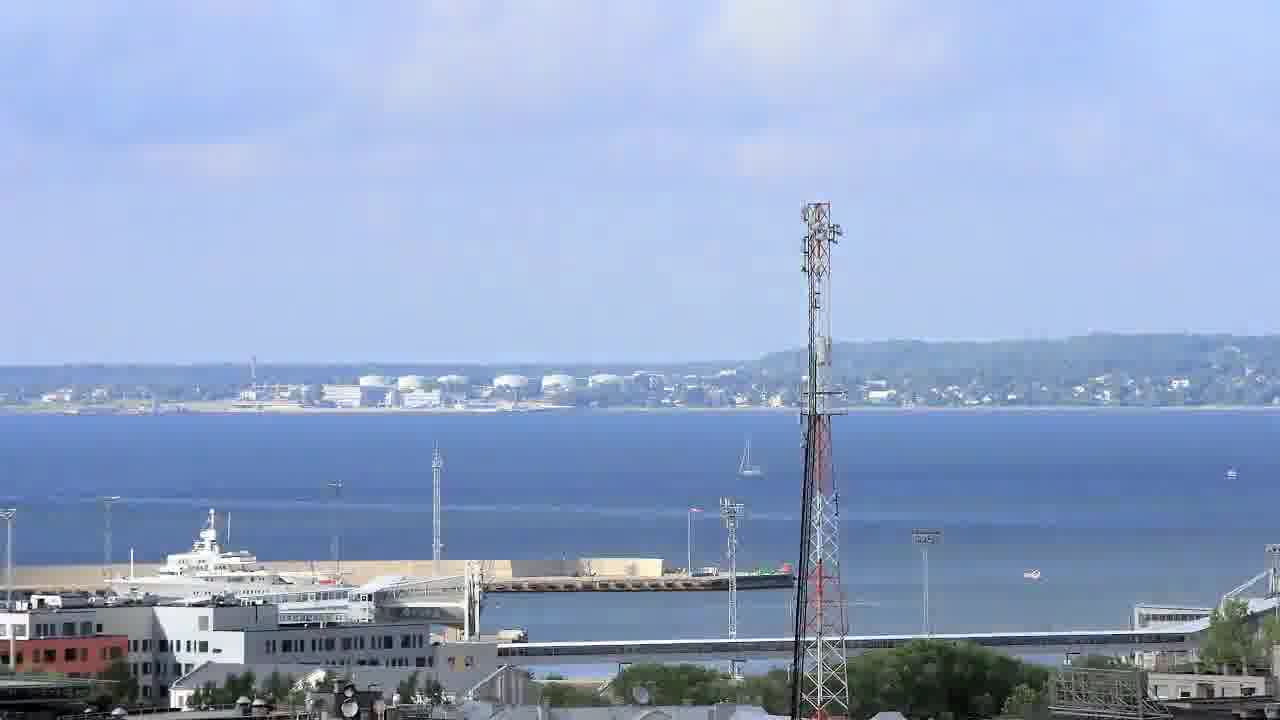type-2: (722, 429, 777, 490)
type-3: (96, 508, 381, 605)
type-4: (1210, 447, 1256, 498), (1010, 552, 1053, 599)
